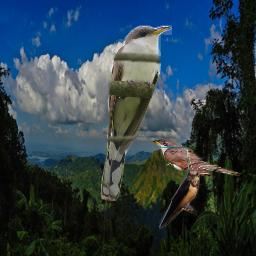Cuckoo: (101, 25, 172, 201), (150, 136, 242, 181)
Swallow: (159, 169, 200, 230)
